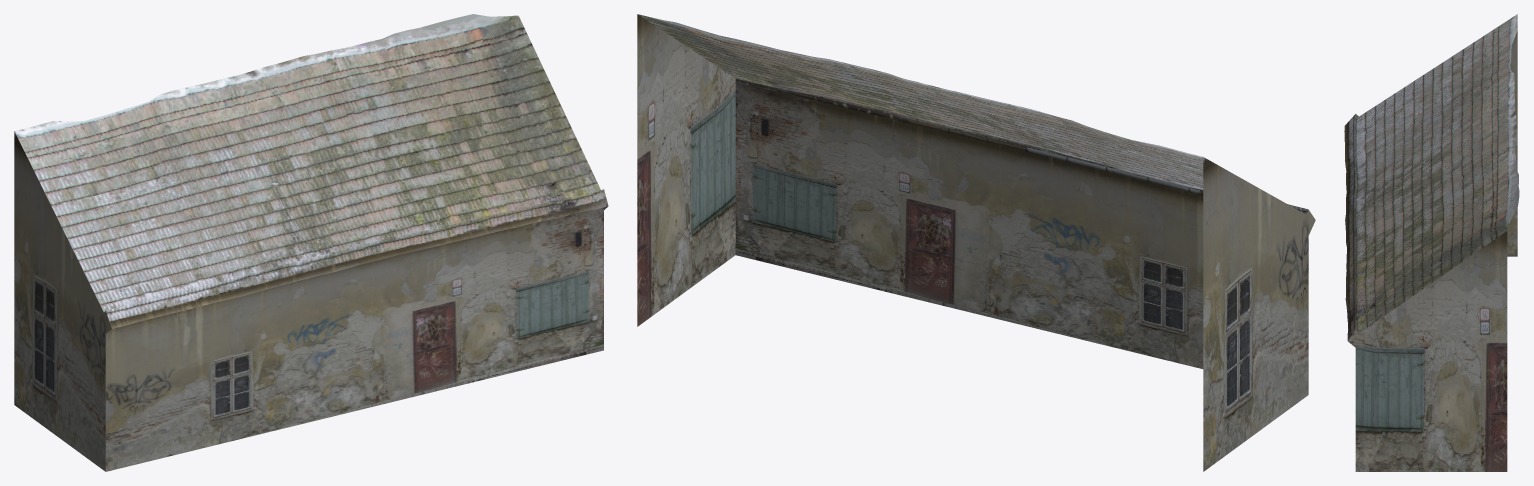
Rendered from house_a.glb.
3 renders of one model, left to right at view 1: azimuth 30°, elevation 25°; view 2: azimuth 150°, elevation 25°; view 3: azimuth 270°, elevation 25°, orthographic. The views are drawn at different scales.
Visible parts, largest first — view 1: old_house_4; view 2: old_house_4; view 3: old_house_4.
Boxes of the visible parts, bbox=[...] form: old_house_4: bbox=[14, 14, 608, 471]; old_house_4: bbox=[637, 14, 1315, 471]; old_house_4: bbox=[1344, 14, 1519, 471].
Bounding box in the file's own units: 9.61 × 5.14 × 3.3.
Materials: 1 (1 with a texture image).
